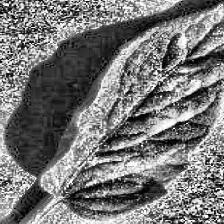leaf mold: (38, 0, 224, 221)
